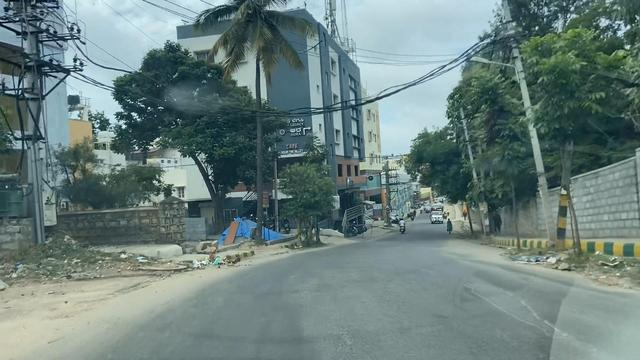RoadDamages: (415, 270, 608, 360)
